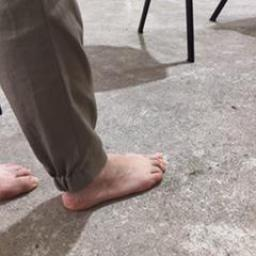Lateral View -Right Foot-: (40, 141, 172, 214)
